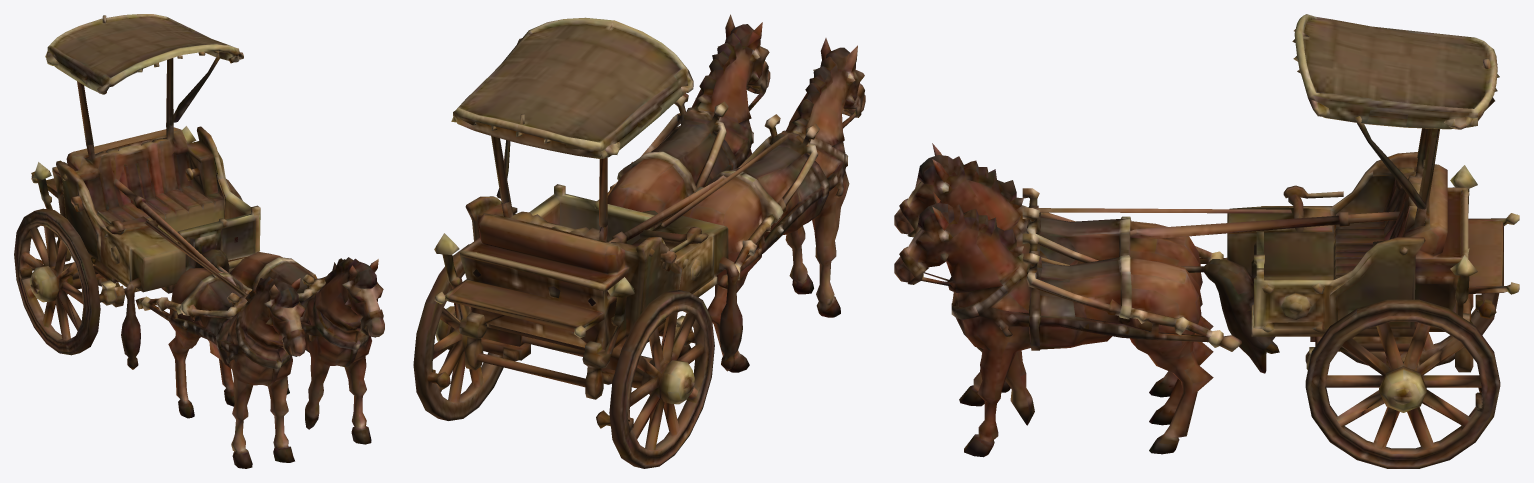
The model's file is carro_fogo.glb.
3 views of the same model, side by side, from view 1: azimuth 30°, elevation 25°; view 2: azimuth 150°, elevation 25°; view 3: azimuth 270°, elevation 25° (orthographic). The views are drawn at different scales.
Parts seen in each view (by area): view 1: tripo_node_f20db564-ac17-477a-8199-81f48eec4f7a; view 2: tripo_node_f20db564-ac17-477a-8199-81f48eec4f7a; view 3: tripo_node_f20db564-ac17-477a-8199-81f48eec4f7a.
Boxes of the visible parts, x1,y1,x2,y2 form: tripo_node_f20db564-ac17-477a-8199-81f48eec4f7a: [14, 14, 384, 468]; tripo_node_f20db564-ac17-477a-8199-81f48eec4f7a: [413, 14, 865, 468]; tripo_node_f20db564-ac17-477a-8199-81f48eec4f7a: [894, 14, 1519, 468].
Size of the model in its own units: 0.4609 by 0.6751 by 0.9774.
1 material, 1 textured.
